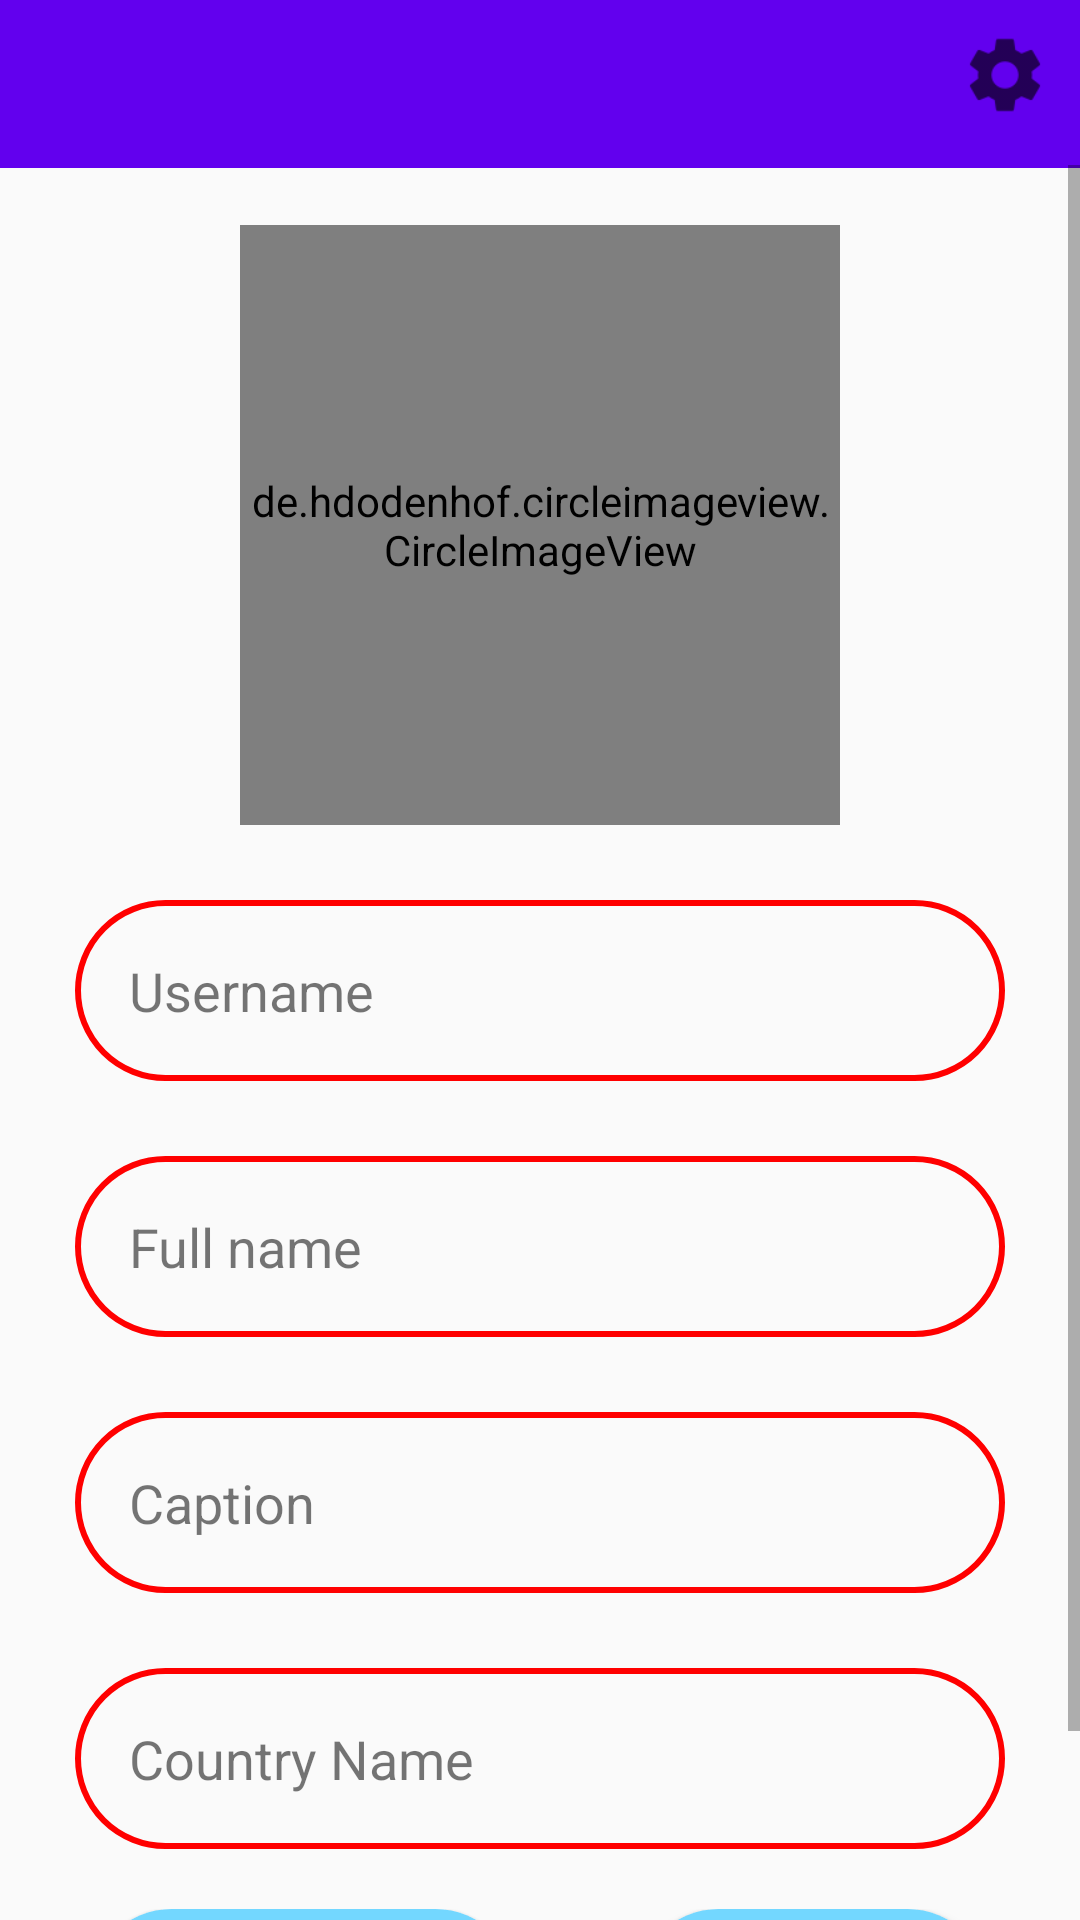

Screen size 1080px×1920px. Icon name, then its box in pixels as bbox=(x1, y1, x2, y2):
settings: bbox=(970, 38, 1040, 112)
